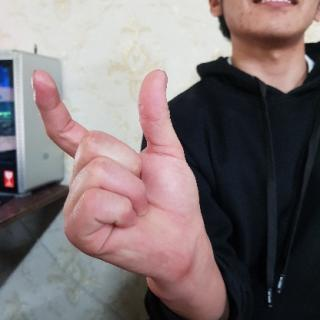NOON: (29, 54, 208, 295)
